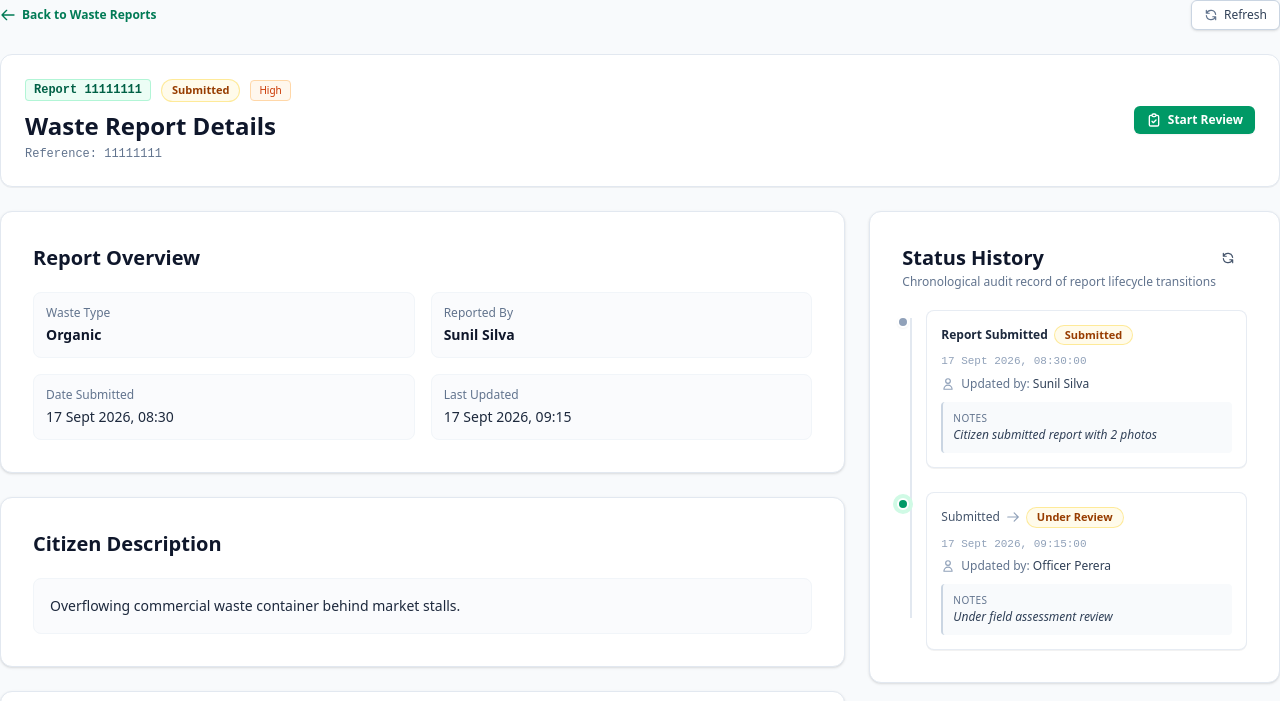
Test: WasteReportDetailPage › handles 403 Forbidden and 500 server errors gracefully without faking success
Click the button "Start Review" at (1194, 120), box left=1134, top=106, right=1255, bottom=134
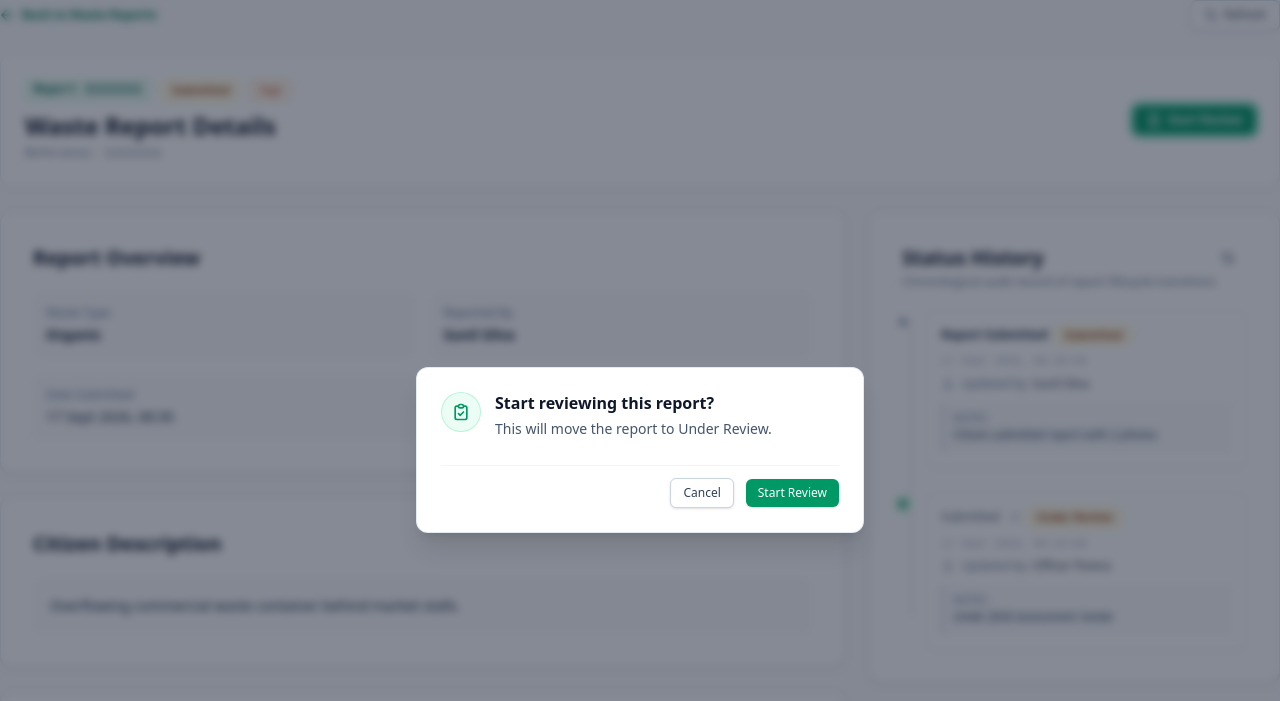
Click the button with test id "confirm-start-review-button" at (792, 493), box left=746, top=479, right=839, bottom=507
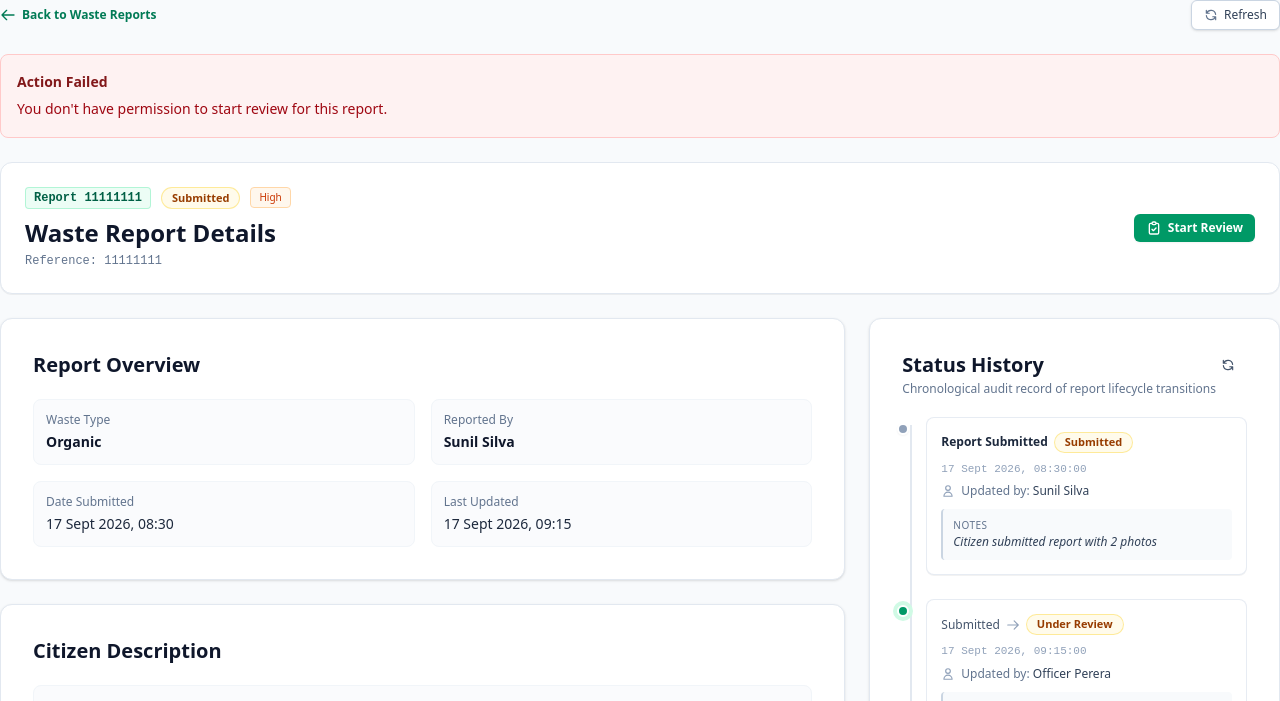
Result: the text "You don't have permission to start review for this report." is shown at left=17, top=99, right=387, bottom=118
Click the button "Start Review" at (1194, 228), box left=1134, top=214, right=1255, bottom=242
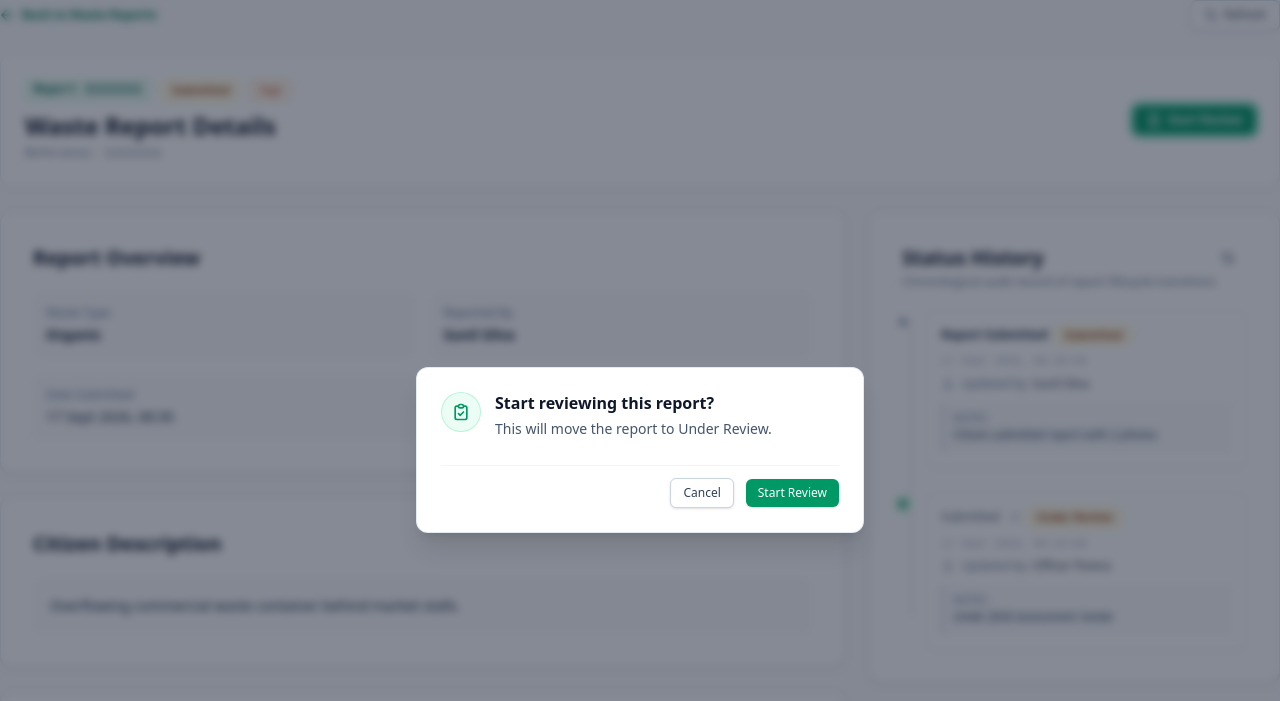
Click the button with test id "confirm-start-review-button" at (792, 493), box left=746, top=479, right=839, bottom=507
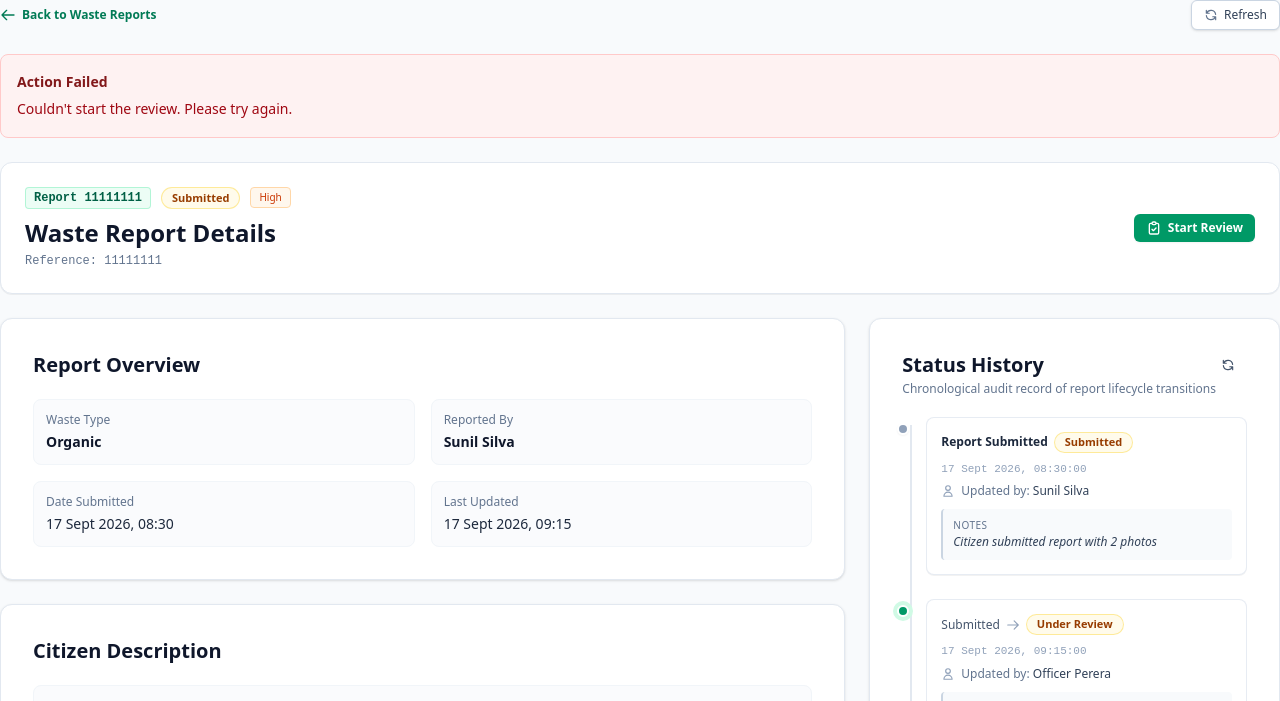
Result: the text "Couldn't start the review. Please try again." is shown at left=17, top=99, right=292, bottom=118
